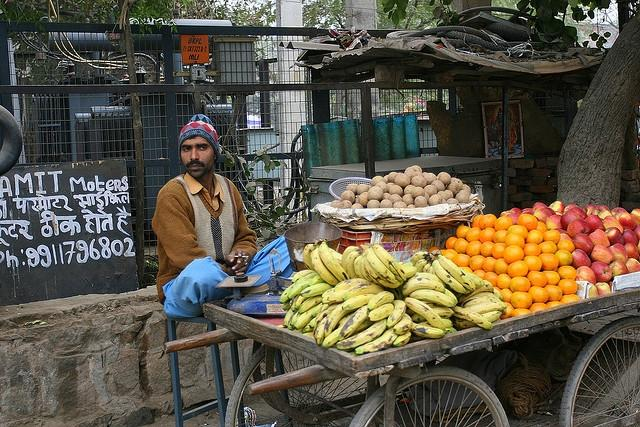apple: (589, 262, 612, 284), (590, 244, 614, 265), (572, 233, 594, 255), (569, 249, 591, 270), (560, 210, 582, 231), (584, 214, 606, 234), (588, 228, 610, 248), (608, 243, 628, 264), (568, 219, 590, 238), (574, 266, 596, 285), (533, 207, 556, 225), (616, 212, 637, 231), (603, 216, 623, 235), (608, 260, 628, 278), (604, 227, 624, 245), (546, 214, 563, 231), (622, 228, 638, 246), (624, 242, 640, 260), (610, 207, 630, 221), (568, 207, 588, 220), (594, 282, 612, 296), (624, 258, 640, 273), (590, 205, 610, 215), (550, 201, 566, 212), (532, 202, 548, 212), (507, 213, 520, 225), (582, 205, 596, 216), (589, 284, 599, 298), (499, 210, 516, 218), (564, 204, 578, 212), (630, 208, 640, 218), (522, 208, 535, 212)
banana: (336, 318, 387, 350), (322, 320, 376, 350), (358, 255, 404, 288), (404, 296, 446, 332), (437, 254, 476, 292), (371, 244, 406, 282), (310, 244, 340, 286), (319, 242, 350, 282), (355, 326, 399, 354), (432, 259, 467, 294), (338, 305, 370, 341), (448, 306, 493, 330), (450, 310, 502, 330), (366, 248, 396, 282), (324, 302, 352, 338), (409, 288, 456, 308), (460, 296, 507, 316), (457, 280, 494, 304), (342, 283, 388, 301), (314, 301, 346, 326), (402, 278, 445, 296), (411, 306, 454, 322), (405, 300, 448, 315), (386, 300, 406, 330), (410, 322, 447, 338), (344, 250, 364, 279), (342, 294, 376, 310), (464, 302, 508, 314), (288, 278, 312, 300), (300, 282, 335, 297), (368, 290, 394, 310), (354, 246, 369, 280), (298, 294, 322, 314), (368, 303, 394, 321), (393, 313, 412, 335), (303, 244, 318, 270), (280, 282, 296, 304), (292, 270, 316, 284), (392, 331, 412, 347), (410, 252, 431, 266), (416, 257, 432, 273), (329, 248, 342, 266), (326, 290, 345, 302), (290, 310, 303, 327), (284, 309, 294, 328), (291, 294, 300, 312), (461, 270, 478, 278), (322, 288, 334, 298), (430, 266, 440, 278)
orange: (516, 214, 538, 234), (507, 260, 529, 278), (510, 291, 532, 309), (528, 286, 550, 303), (504, 246, 524, 264), (556, 279, 578, 295), (526, 271, 548, 287), (538, 254, 559, 270), (555, 250, 573, 268), (544, 284, 562, 302), (494, 216, 514, 232), (522, 256, 542, 272), (508, 224, 528, 240), (510, 276, 530, 292), (478, 214, 497, 230), (505, 233, 524, 249), (557, 265, 577, 280), (479, 227, 496, 244), (466, 240, 482, 258), (490, 242, 508, 258), (468, 255, 486, 271), (542, 270, 560, 286), (500, 302, 516, 320), (522, 243, 542, 257), (465, 227, 482, 243), (526, 230, 544, 245), (556, 239, 574, 254), (542, 229, 560, 244), (496, 274, 512, 290), (538, 241, 557, 254), (494, 258, 509, 274), (484, 271, 498, 288), (480, 241, 494, 258), (453, 254, 471, 267), (482, 257, 497, 272), (454, 238, 468, 254), (492, 230, 508, 244), (558, 294, 580, 304), (456, 226, 471, 240), (442, 249, 458, 262), (528, 302, 548, 312), (511, 308, 532, 317), (446, 235, 458, 250), (500, 288, 512, 302), (472, 215, 484, 228), (546, 300, 564, 308), (558, 233, 572, 243), (472, 270, 486, 280), (536, 222, 547, 234), (428, 246, 441, 252)
potato: (368, 186, 383, 202), (340, 190, 356, 205), (446, 180, 460, 196), (394, 174, 411, 187), (423, 184, 438, 198), (431, 180, 445, 194), (411, 175, 426, 188), (454, 192, 470, 204), (437, 172, 451, 185), (358, 192, 370, 207), (388, 194, 403, 206), (423, 173, 438, 185), (371, 176, 387, 187), (428, 194, 442, 206), (411, 186, 425, 198), (346, 183, 358, 196), (356, 184, 369, 196), (414, 196, 427, 208), (402, 194, 414, 207), (389, 185, 403, 196), (404, 170, 418, 181), (376, 182, 388, 193), (379, 199, 393, 208), (404, 184, 416, 194), (367, 199, 380, 208), (340, 200, 352, 209), (388, 172, 398, 182), (444, 189, 454, 199), (331, 200, 342, 208), (445, 198, 459, 204), (393, 202, 407, 208), (386, 182, 396, 190), (424, 191, 430, 204), (458, 190, 469, 196), (441, 198, 446, 204), (422, 172, 428, 177), (397, 172, 404, 174)
